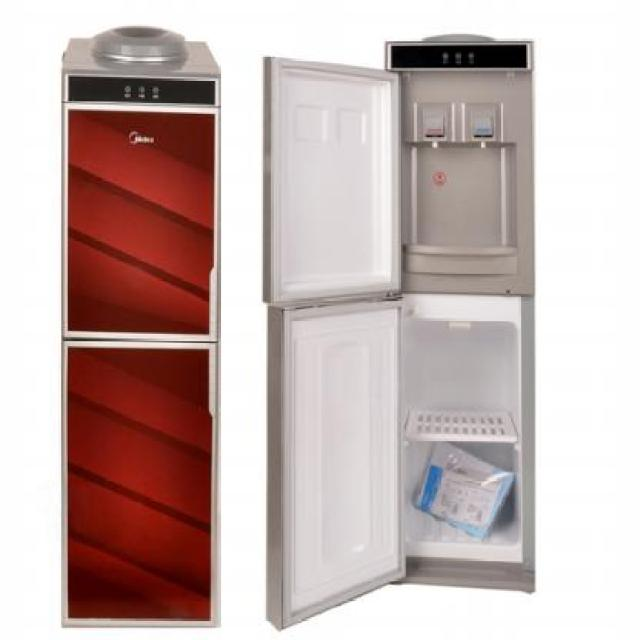cooler: (56, 25, 224, 629), (383, 30, 541, 598)
